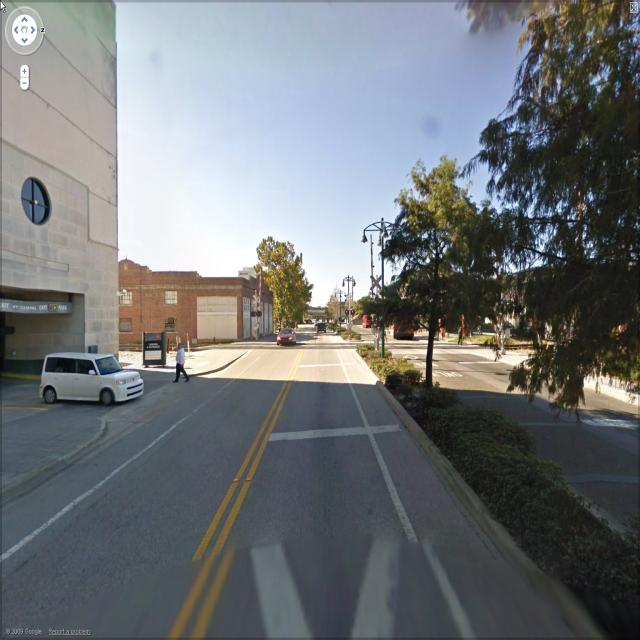b_1: (108, 275, 284, 363)
